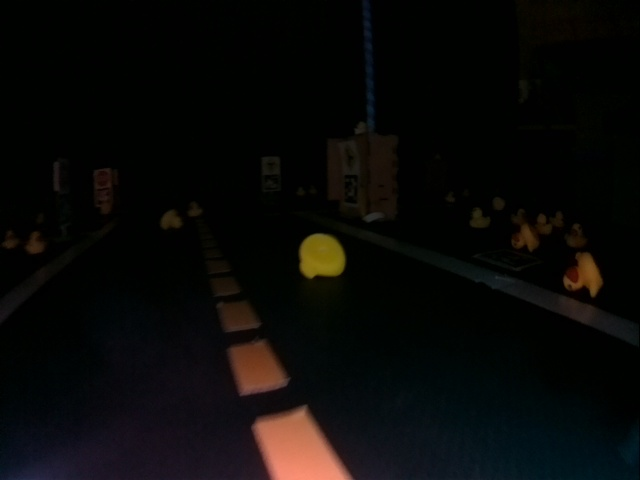Duckie: (298, 234, 346, 278), (564, 253, 601, 296), (512, 225, 540, 250), (25, 232, 46, 251), (470, 210, 489, 228), (159, 210, 179, 226), (538, 215, 550, 234), (512, 209, 527, 223), (551, 212, 565, 227), (187, 202, 201, 217), (447, 191, 456, 200), (495, 197, 503, 207)
Intersection sign: (340, 146, 358, 170), (263, 158, 278, 172)
QR code: (474, 248, 541, 271), (344, 175, 358, 202), (263, 174, 281, 191), (96, 188, 110, 205)
